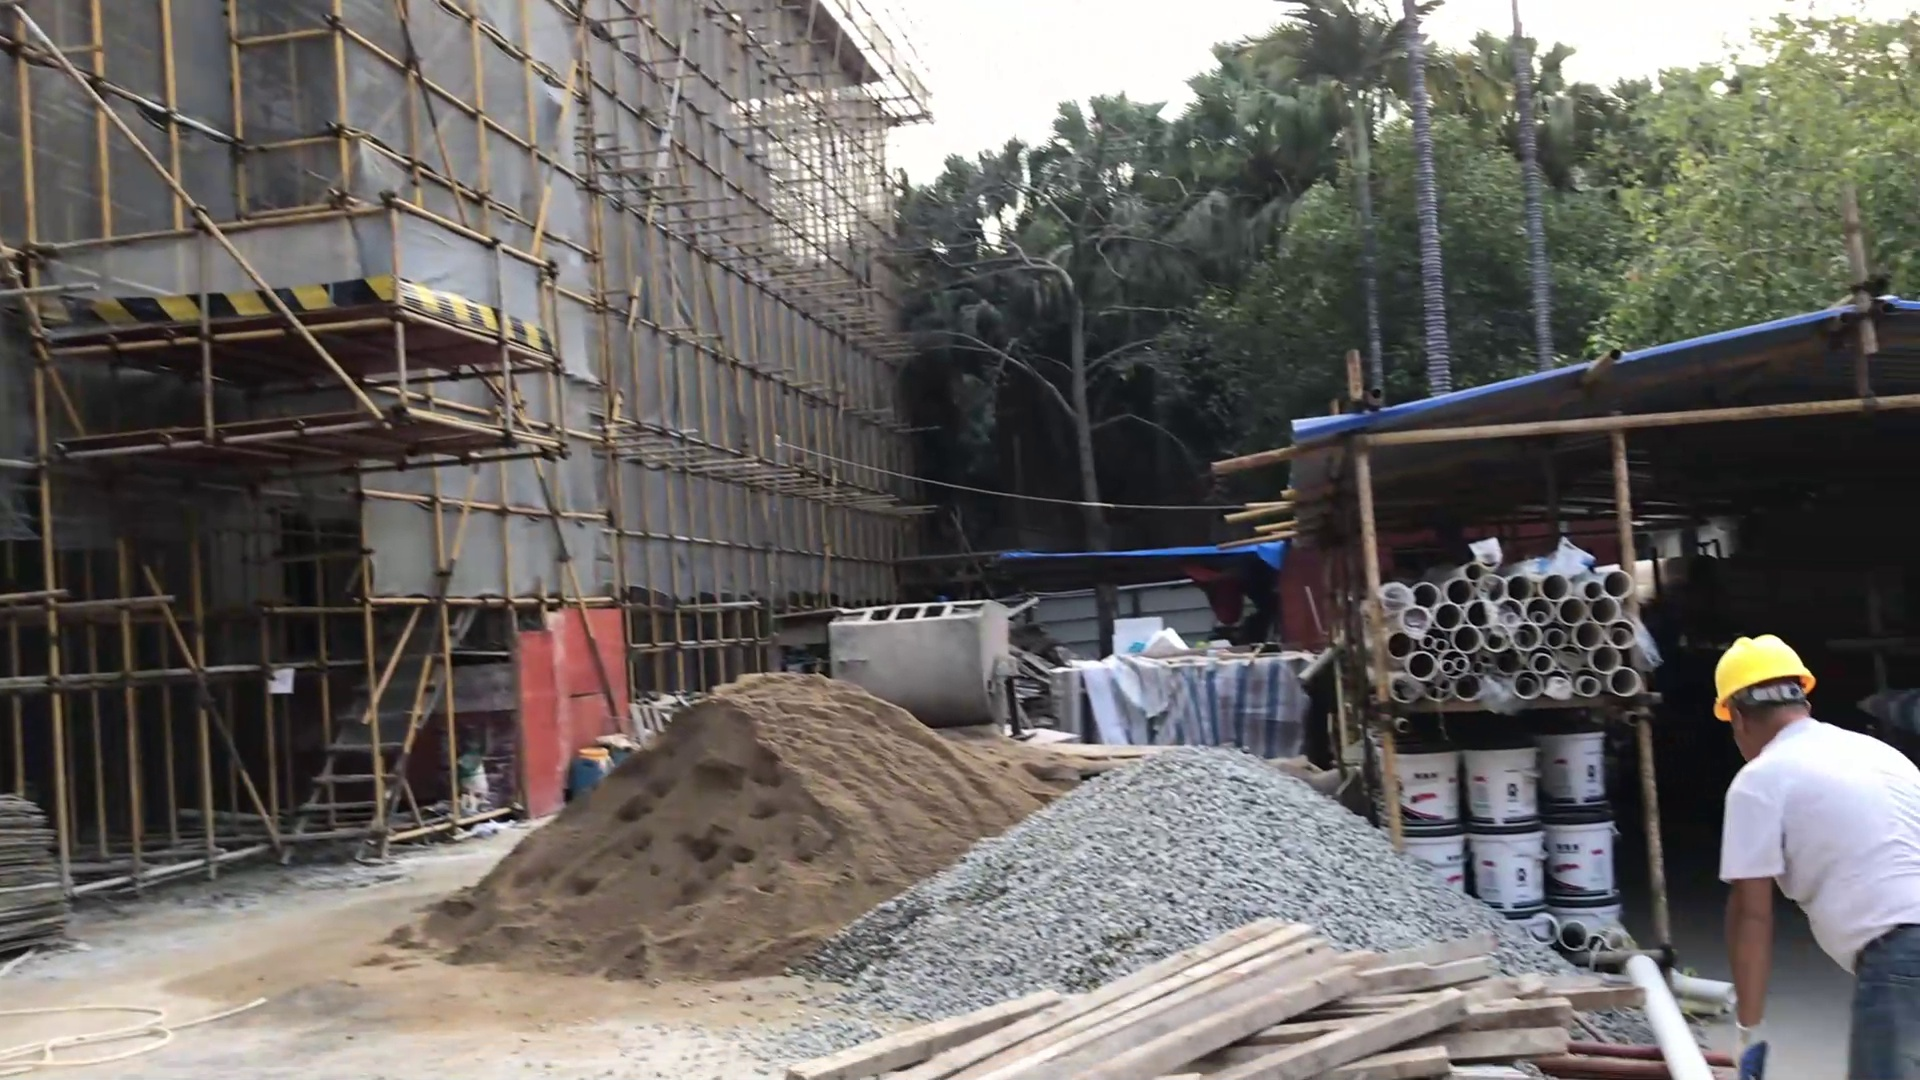helmet: (1706, 631, 1825, 727)
person: (1693, 634, 1920, 1080)
